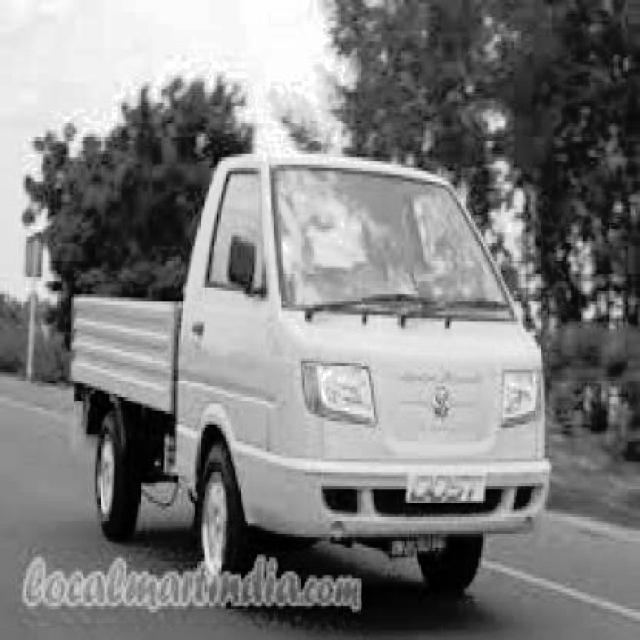LCV: (68, 198, 550, 578)
